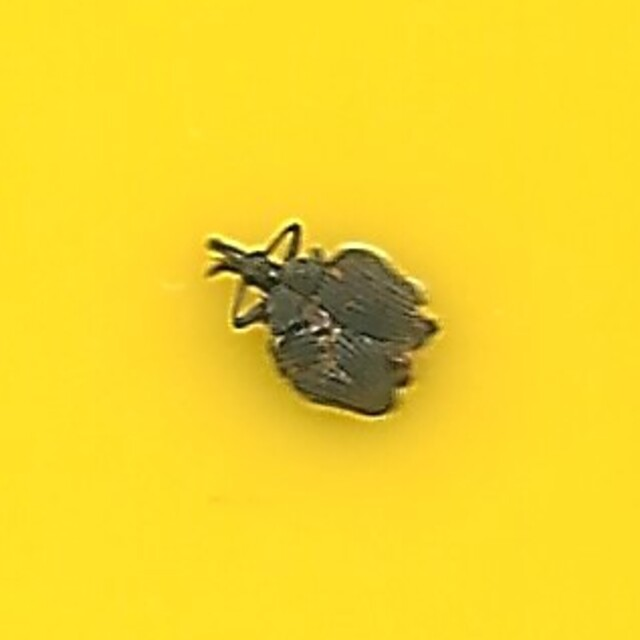Coleoptera: (202, 216, 438, 424)
